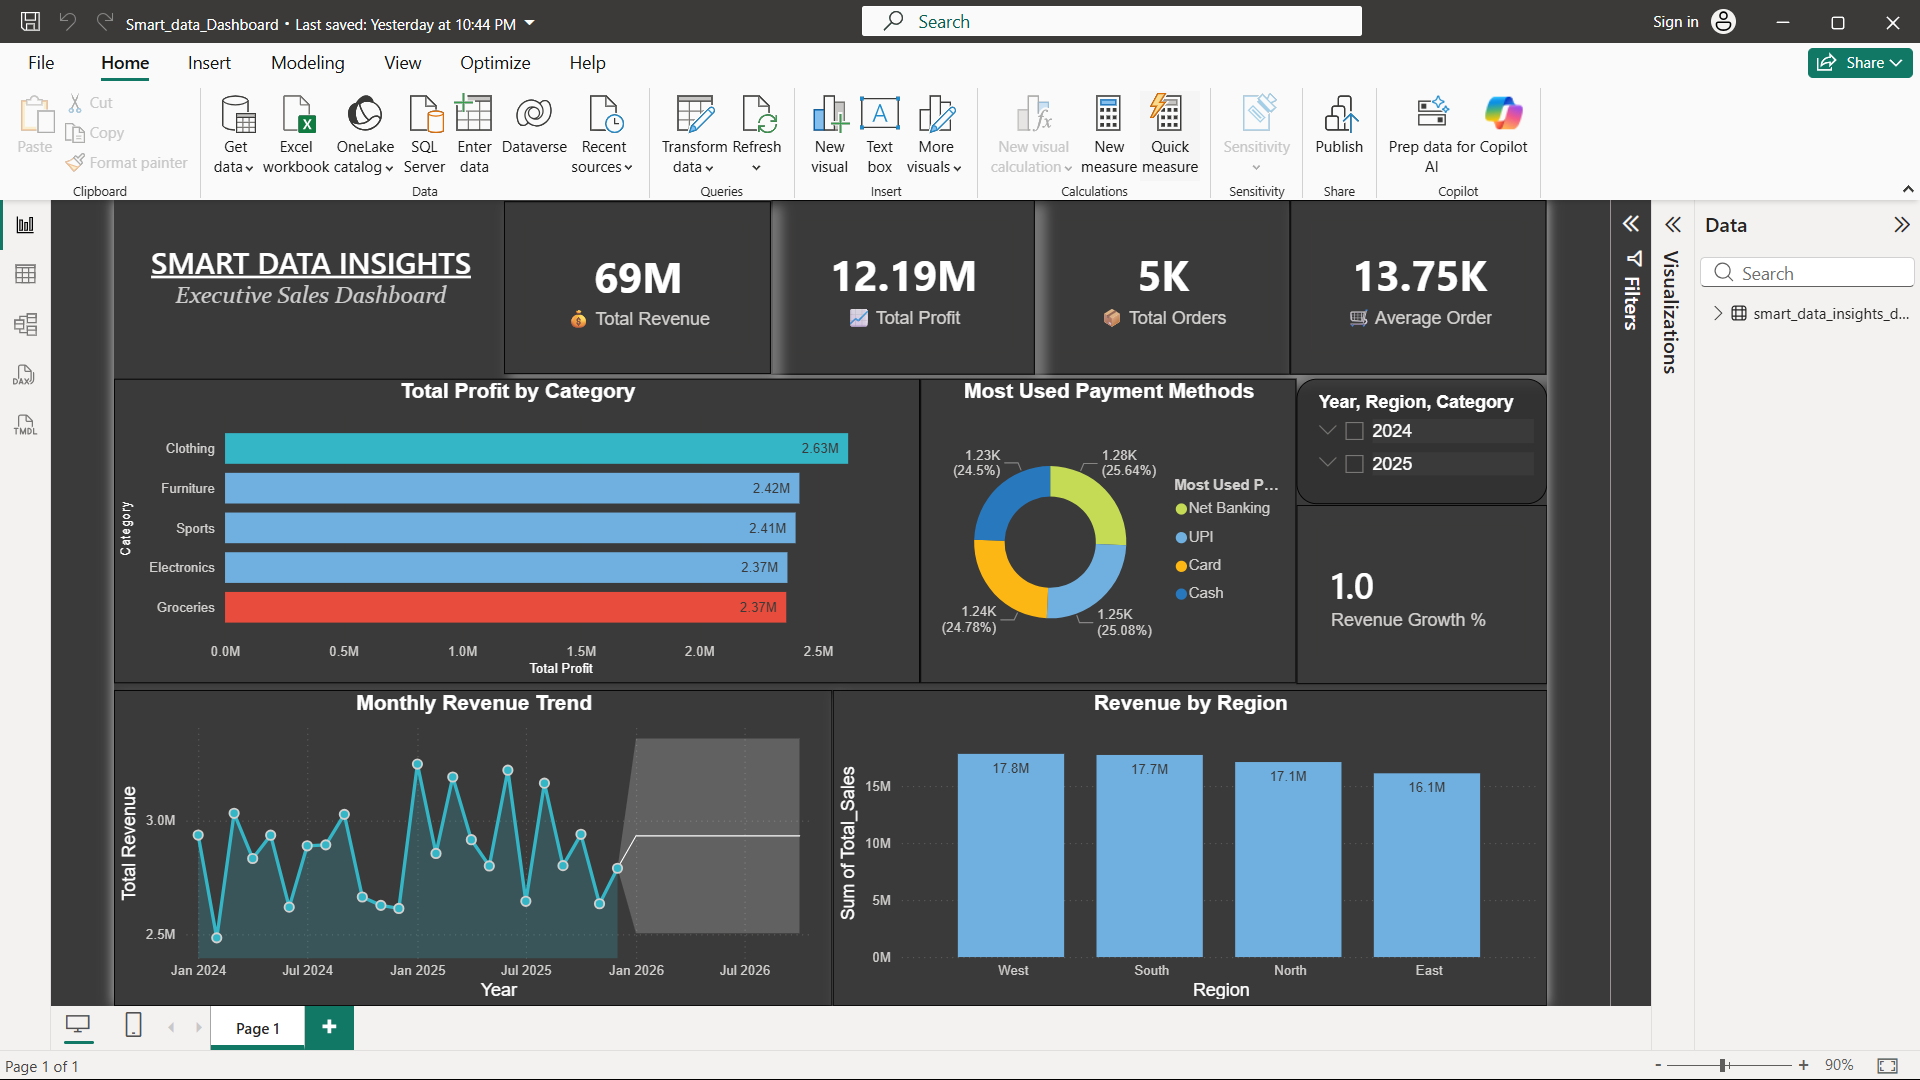

This screenshot's page, from the dashboard's own definition file:
{"tool":"powerbi","page":{"name":"Page 1","canvas":[1280,720],"ordinal":0},"visuals":[{"type":"cardVisual","fields":{"Data":["smart_data_insights_dataset.Total Orders"]},"box":[822.1,0,229.1,155.8],"z":0},{"type":"textbox","box":[0,32,352,80],"z":1000},{"type":"cardVisual","fields":{"Data":["smart_data_insights_dataset.Average Order Value"]},"box":[1051.2,0,229.1,155.8],"z":2000},{"type":"cardVisual","fields":{"Data":["smart_data_insights_dataset.Total Profit"]},"box":[587.2,0,234.9,155.8],"z":3000},{"type":"cardVisual","fields":{"Data":["smart_data_insights_dataset.Total Revenue"]},"box":[348.8,1.2,238.4,154.7],"z":4000},{"type":"lineChart","title":"Monthly Revenue Trend","fields":{"Y":["smart_data_insights_dataset.Total Revenue"],"Category":["smart_data_insights_dataset.Order_Date.Variation.Date Hierarchy.Year","smart_data_insights_dataset.Order_Date.Variation.Date Hierarchy.Month"]},"box":[0,437.2,641.9,282.6],"z":5000},{"type":"clusteredBarChart","title":"Total Profit by Category","fields":{"Category":["smart_data_insights_dataset.Category"],"Y":["smart_data_insights_dataset.Total Profit"]},"box":[0,160,720,272],"z":6000},{"type":"donutChart","title":"Most Used Payment Methods","fields":{"Category":["smart_data_insights_dataset.Payment_Method"],"Y":["CountNonNull(smart_data_insights_dataset.Order_ID)"]},"box":[720,160,336,272],"z":7000},{"type":"clusteredColumnChart","title":"Revenue by Region","fields":{"Category":["smart_data_insights_dataset.Region"],"Y":["Sum(smart_data_insights_dataset.Total_Sales)"]},"box":[641.9,437.2,638.4,282.6],"z":8000},{"type":"slicer","fields":{"Values":["smart_data_insights_dataset.Order_Date.Variation.Date Hierarchy.Year","smart_data_insights_dataset.Region","smart_data_insights_dataset.Category"]},"box":[1056,160,224,112],"z":9000},{"type":"cardVisual","fields":{"Data":["smart_data_insights_dataset.Revenue Growth %"]},"box":[1056,272,224,160],"z":10000}]}

Visuals, with their boxes on the page's 1280x720 design canvas (x1, y1, x2, y2). These are canvas units, not pixel positions in the 1920x1080 screenshot, which may show the page scaled, cropped or inside an application window:
cardVisual - smart_data_insights_dataset.Total Orders: select_region(822, 0, 1051, 156)
textbox: select_region(0, 32, 352, 112)
cardVisual - smart_data_insights_dataset.Average Order Value: select_region(1051, 0, 1280, 156)
cardVisual - smart_data_insights_dataset.Total Profit: select_region(587, 0, 822, 156)
cardVisual - smart_data_insights_dataset.Total Revenue: select_region(349, 1, 587, 156)
"Monthly Revenue Trend" lineChart: select_region(0, 437, 642, 720)
"Total Profit by Category" clusteredBarChart: select_region(0, 160, 720, 432)
"Most Used Payment Methods" donutChart: select_region(720, 160, 1056, 432)
"Revenue by Region" clusteredColumnChart: select_region(642, 437, 1280, 720)
slicer - smart_data_insights_dataset.Order_Date.Variation.Date Hierarchy.Year x smart_data_insights_dataset.Region: select_region(1056, 160, 1280, 272)
cardVisual - smart_data_insights_dataset.Revenue Growth %: select_region(1056, 272, 1280, 432)
